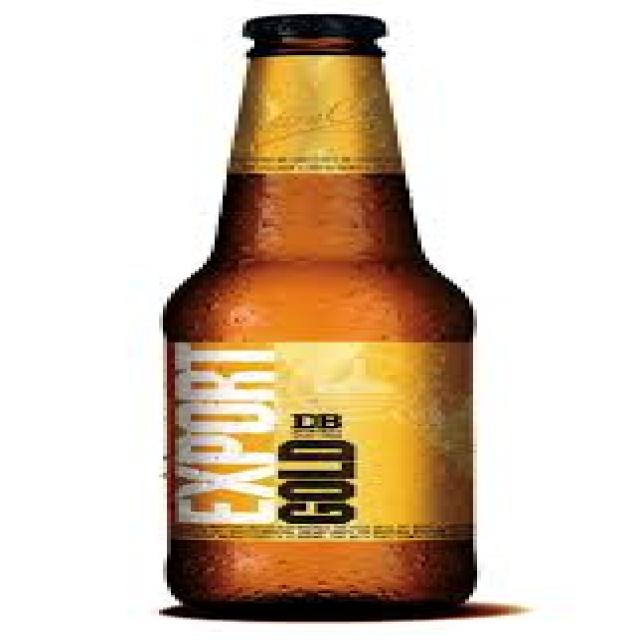Anorganik: (159, 37, 473, 618), (235, 10, 382, 33)
